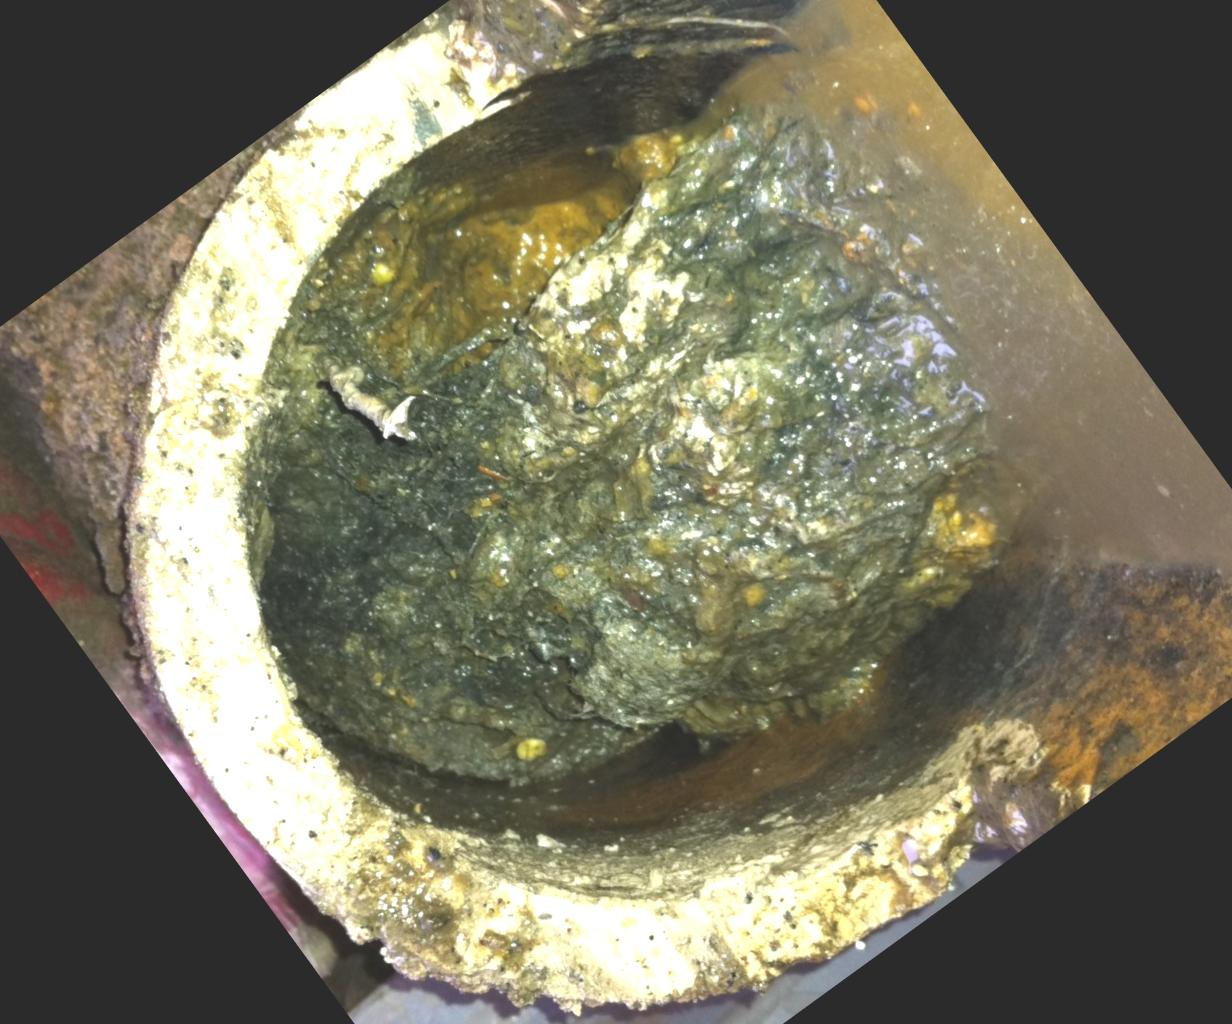Blocked drain: (14, 0, 1232, 1024)
